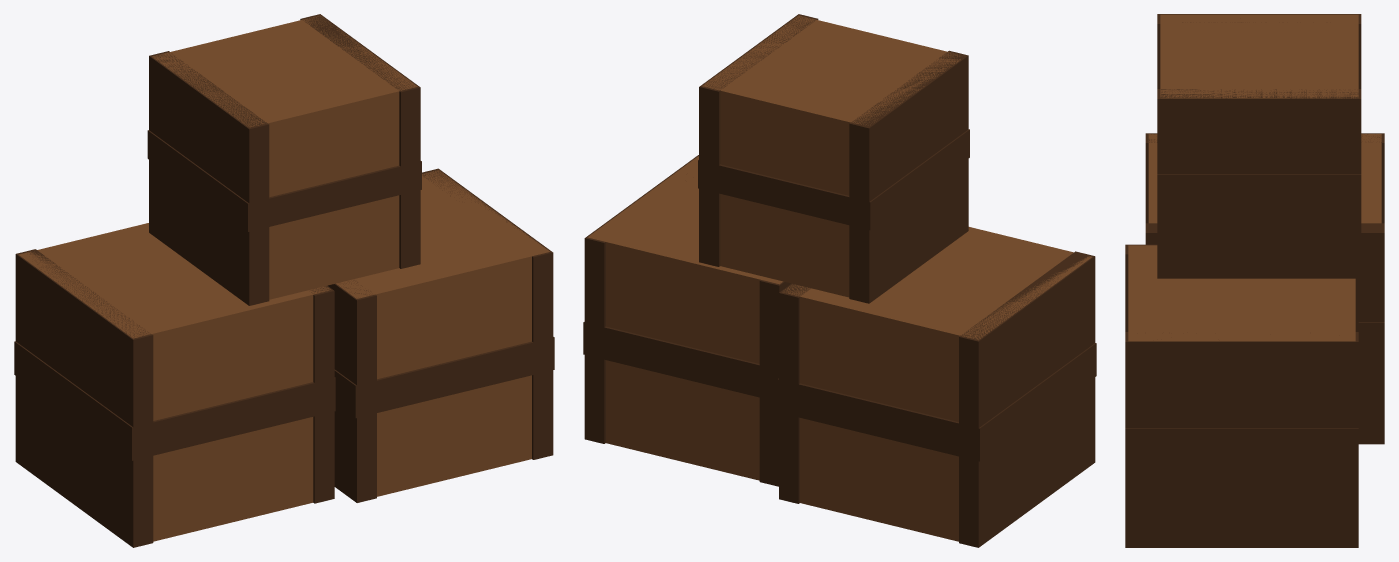
File: camp_crates.glb
3 renders of one model, left to right at view 1: azimuth 30°, elevation 25°; view 2: azimuth 150°, elevation 25°; view 3: azimuth 270°, elevation 25°, orthographic. The views are drawn at different scales.
Parts seen in each view (by area): view 1: camp_crates; view 2: camp_crates; view 3: camp_crates.
Part boxes in pixels (x1=…): camp_crates: x1=14, y1=14, x2=554, y2=547; camp_crates: x1=583, y1=14, x2=1096, y2=547; camp_crates: x1=1125, y1=14, x2=1384, y2=547.
Bounding box in the file's own units: 1.66 × 1.48 × 0.89.
1 material, 1 textured.
